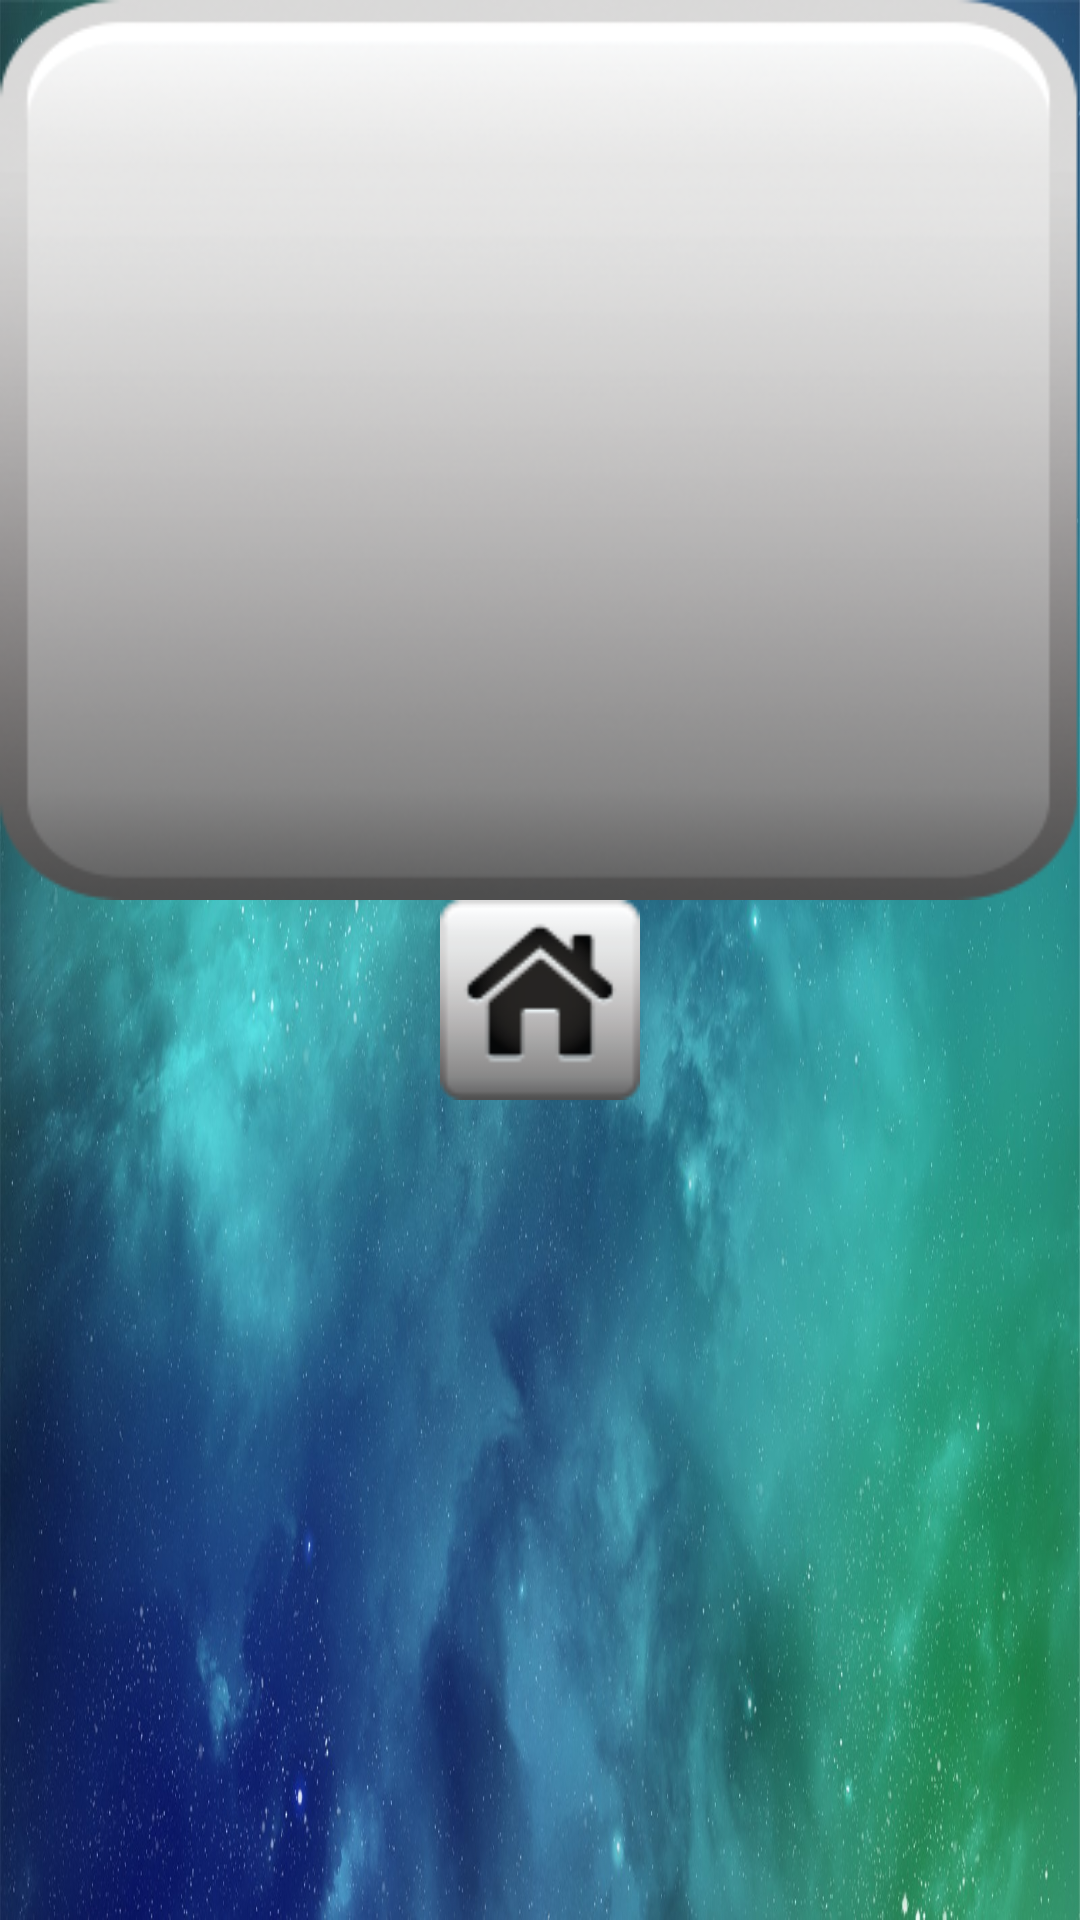

Where to tap for icons on this 1080w x 1920h app screen, as (x,y):
homebtn: (540,1000)
